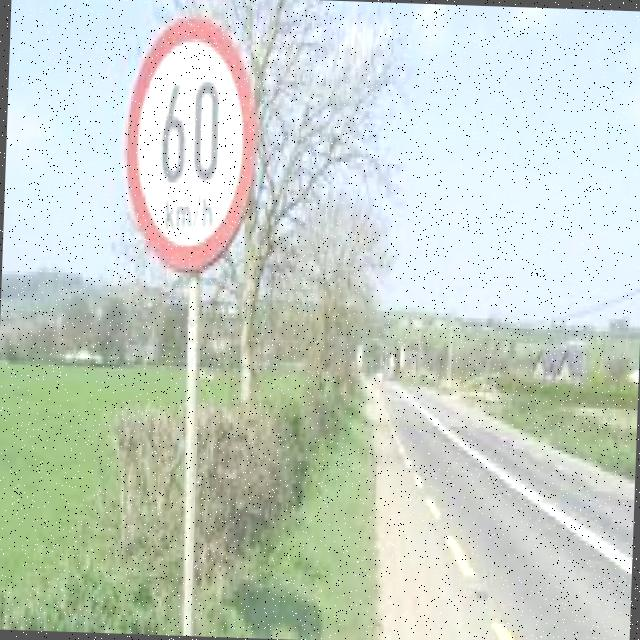Ograniczenie predkosci do 60: (120, 13, 262, 286)
